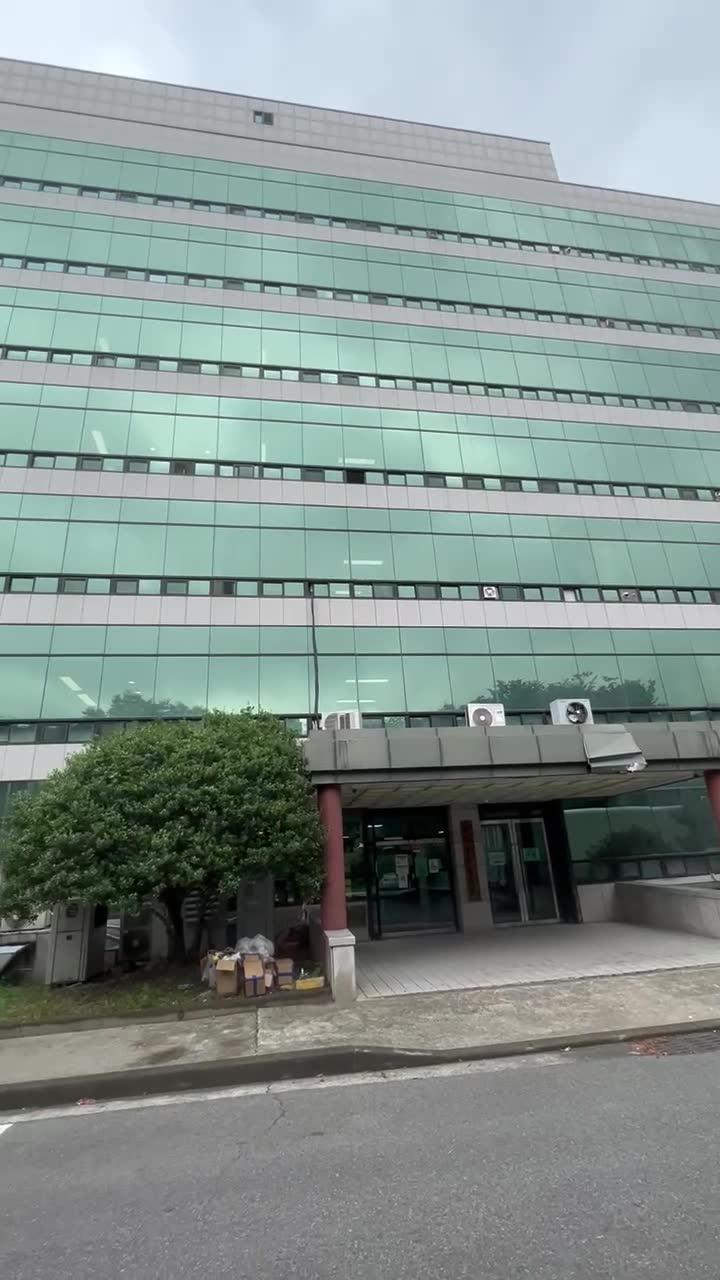building: (0, 56, 620, 678)
